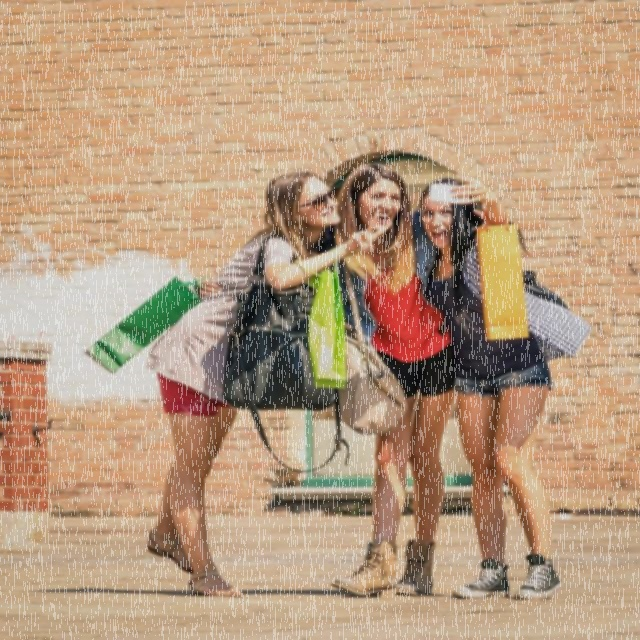pessoa: (196, 162, 497, 598), (144, 170, 396, 600), (418, 172, 594, 600)
